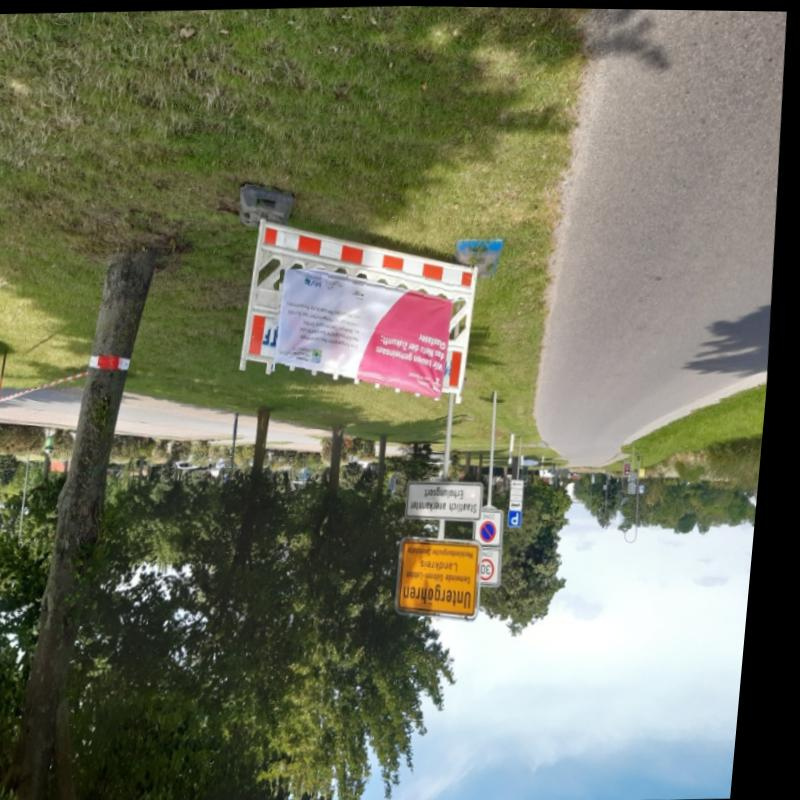Banner: (281, 267, 458, 397)
